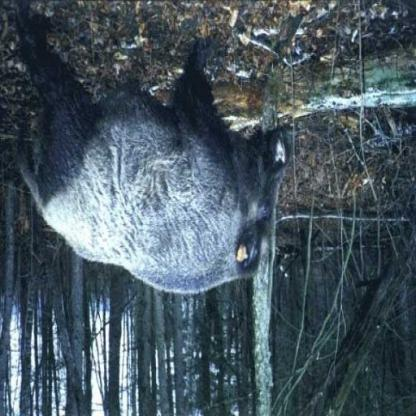boar: (18, 6, 298, 295)
